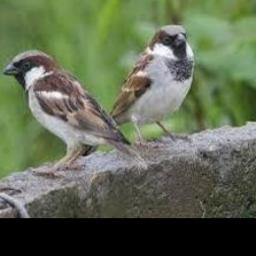Sparrow: (2, 49, 150, 172), (78, 24, 194, 155)
